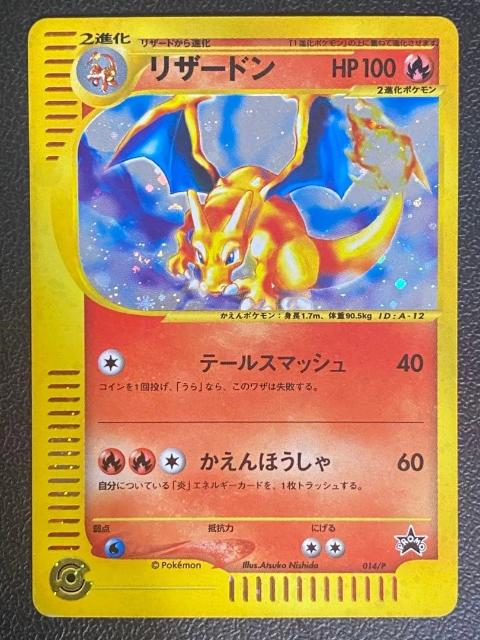Card: (24, 13, 464, 622)
Name: (146, 53, 279, 86)
